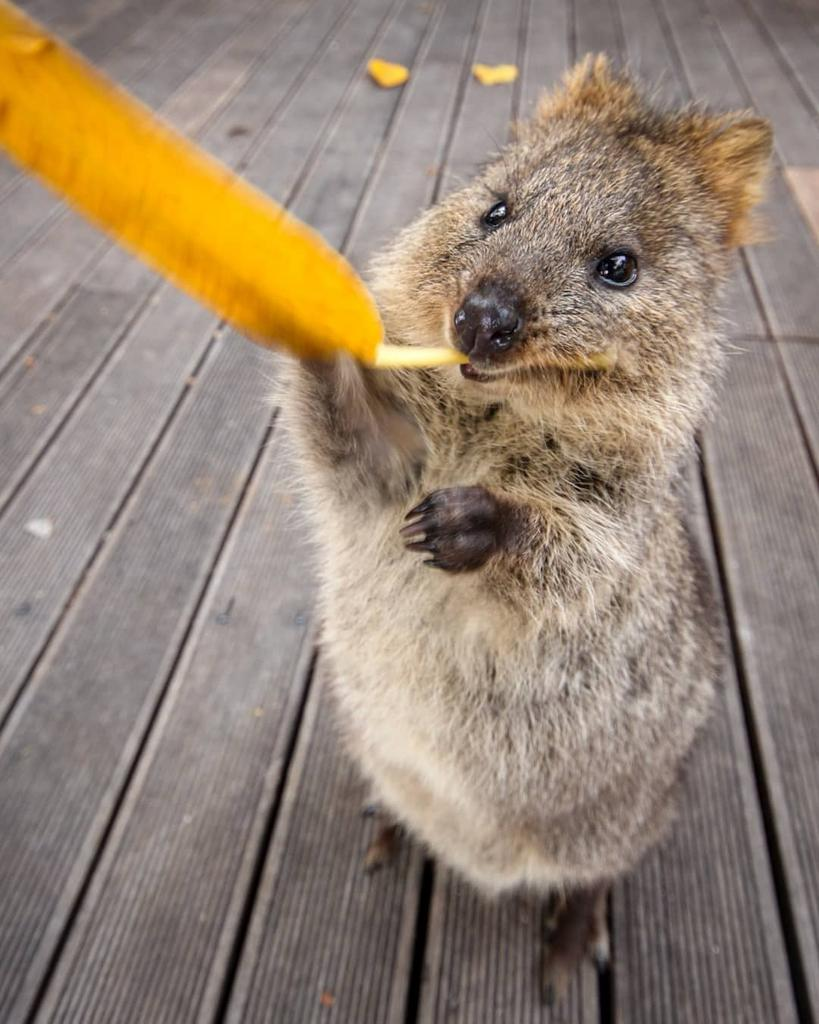quokka: (222, 62, 802, 959)
